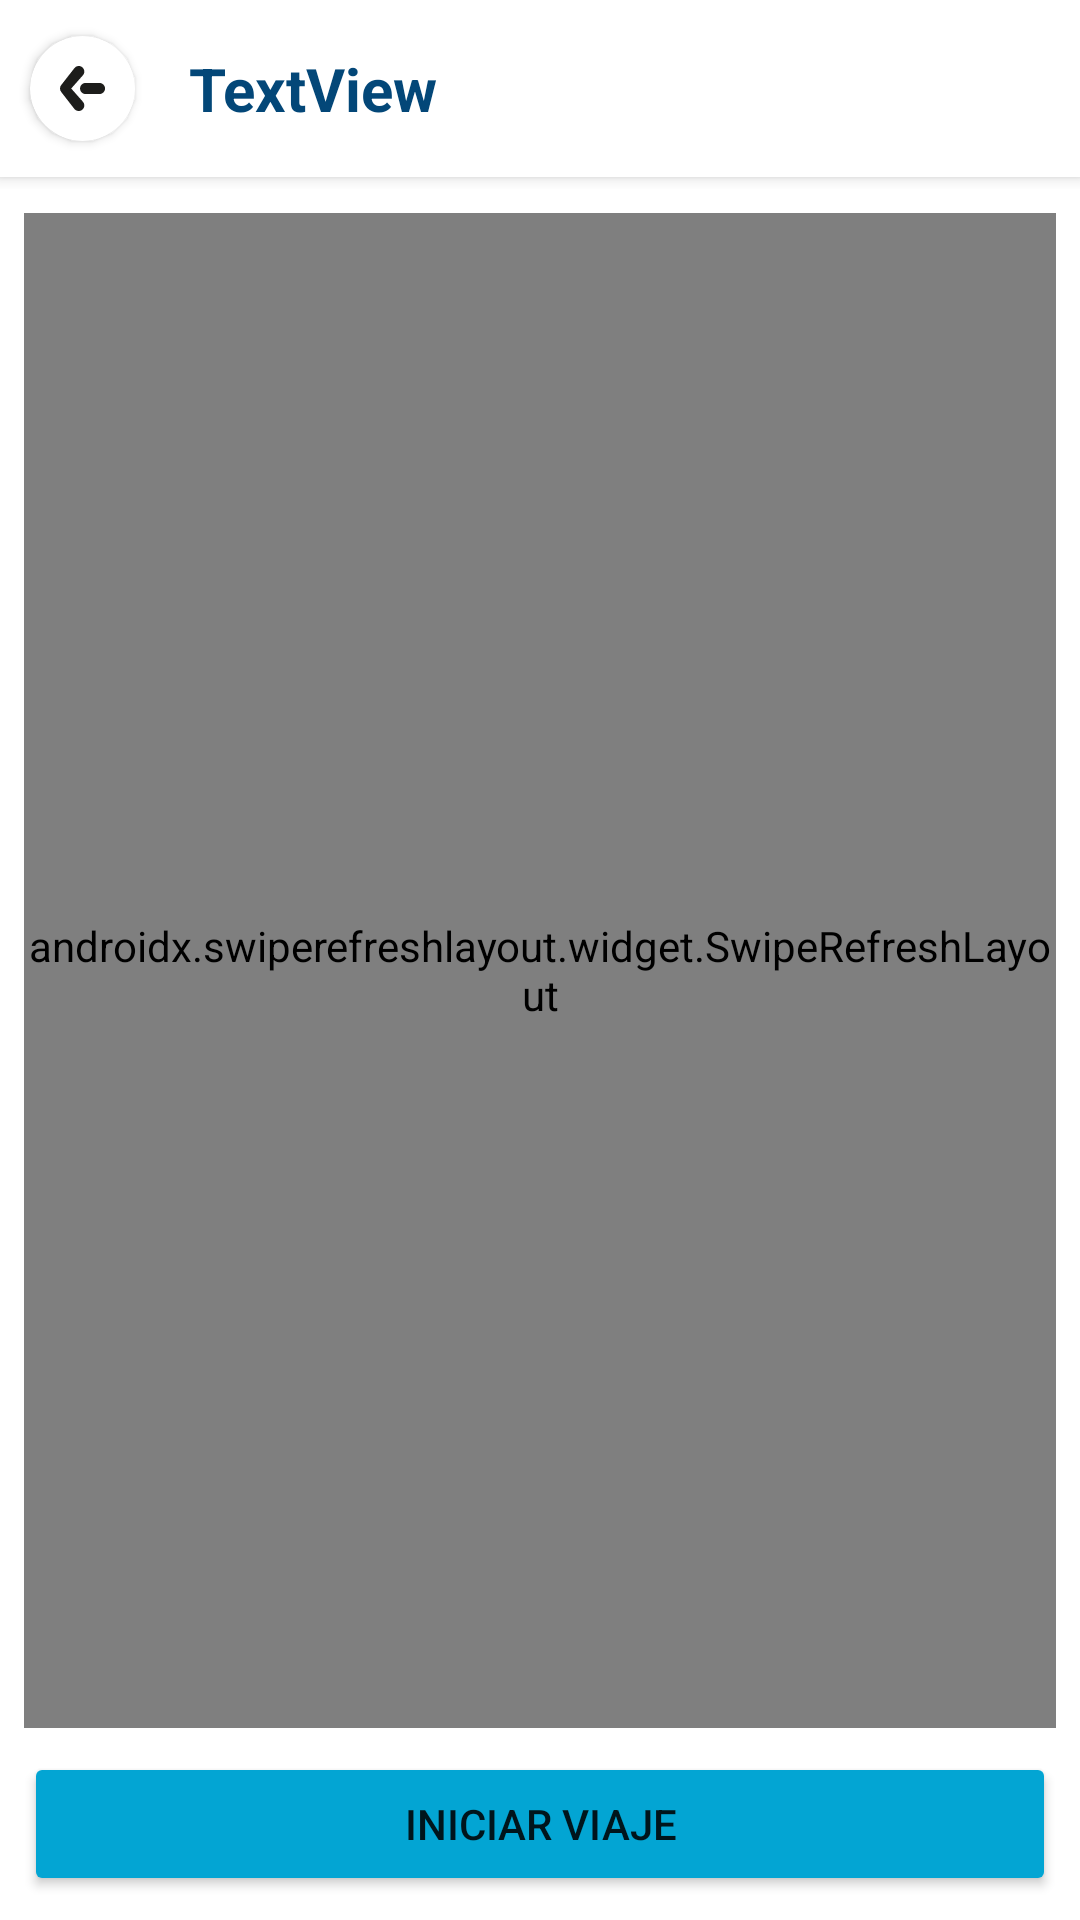

Where to tap for icons on this 1080×1920 app screen, as point (x, y):
arrow back: point (67, 88)
